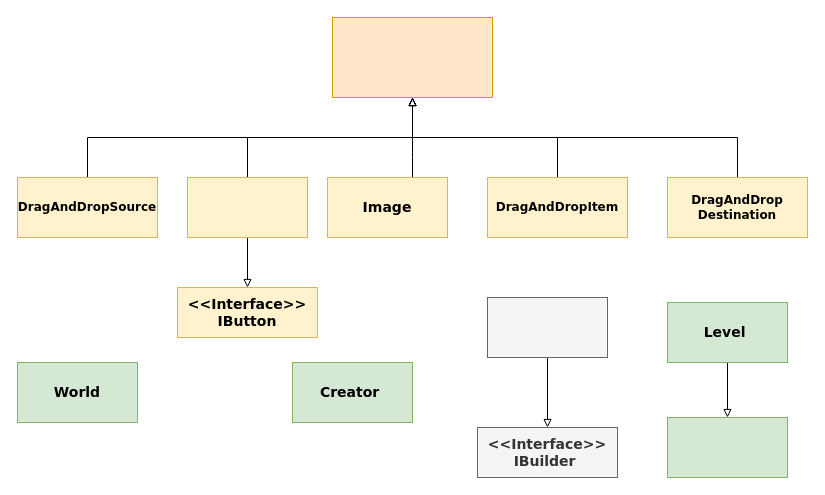
Some shapes in this 825 by 495 pixel diagram are drawn without their labels. The centre of each missing label's shape, as x and y in pixels:
"<<abstract>> Space" belongs at point (727, 447).
"Builder" belongs at point (547, 327).
"Button" belongs at point (247, 207).
"ITEMS" belongs at point (412, 57).
